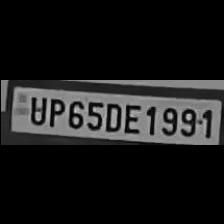1: (197, 104, 215, 138), (142, 101, 158, 135)
5: (84, 97, 102, 130)
6: (64, 96, 82, 128)
9: (157, 102, 177, 136), (178, 104, 196, 136)
D: (102, 98, 120, 132)
E: (122, 100, 140, 134)
P: (44, 93, 64, 126)
U: (24, 93, 46, 125)
